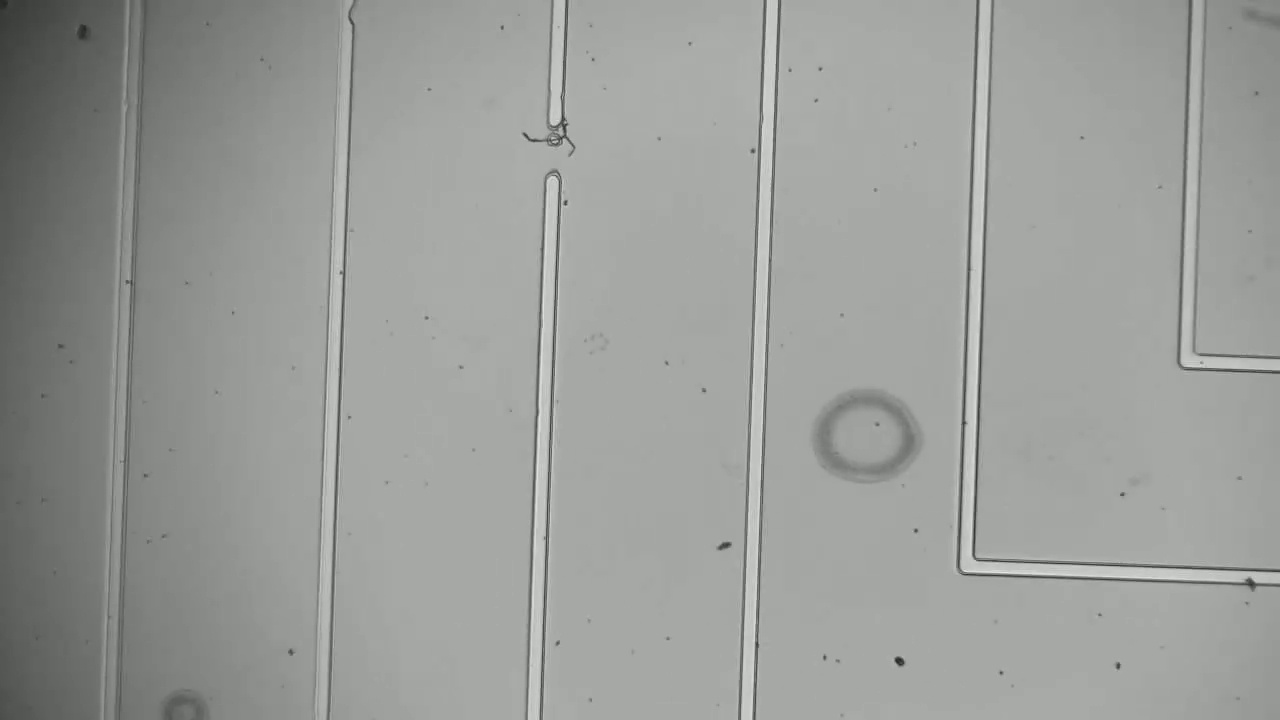edge_bite: (331, 1, 362, 35)
open: (533, 106, 573, 192)
stains_enbedded: (1239, 562, 1263, 596)
